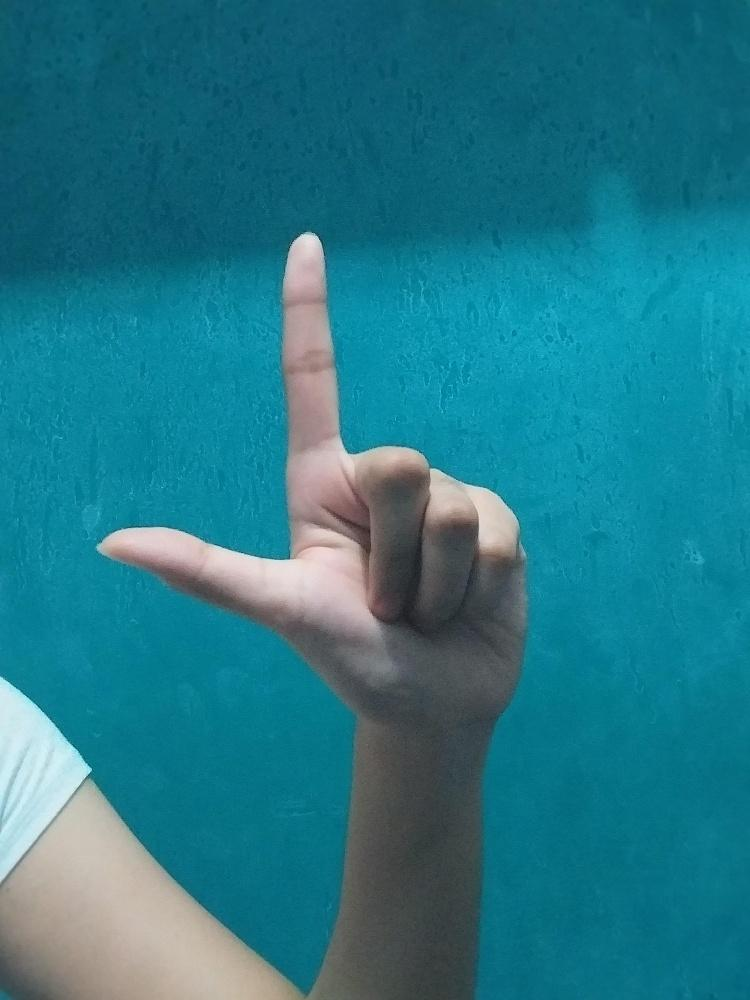l: (96, 229, 530, 711)
